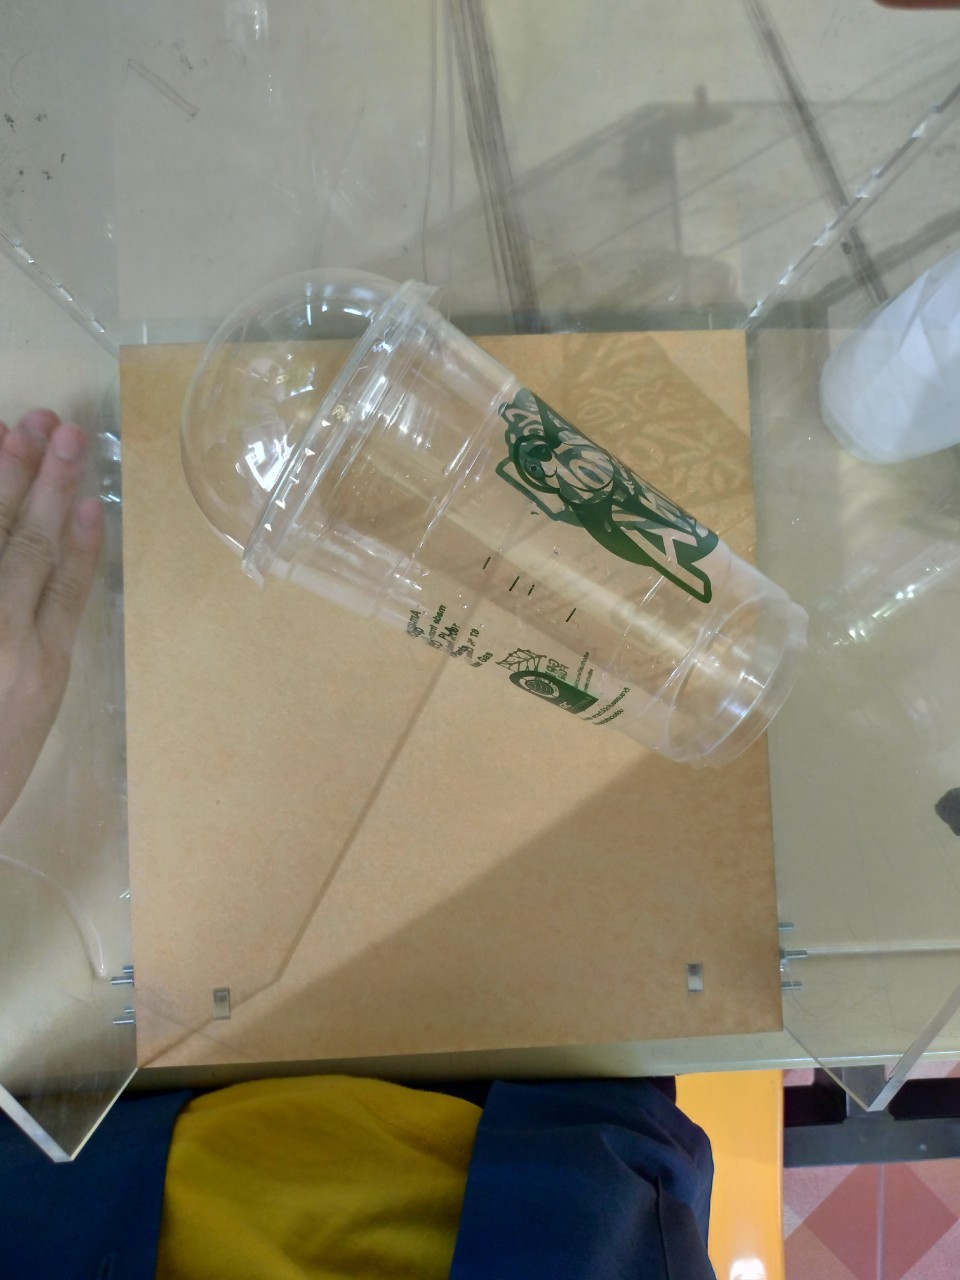PlasticCup: (179, 266, 808, 768)
